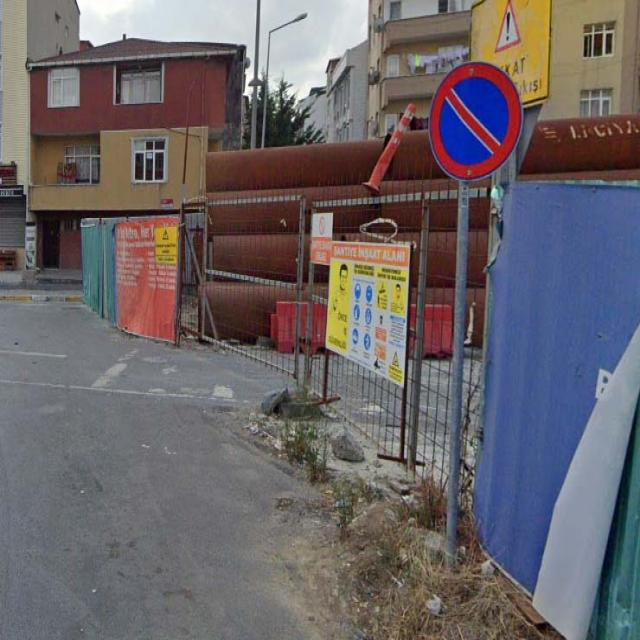parkyasak: (429, 62, 523, 180)
